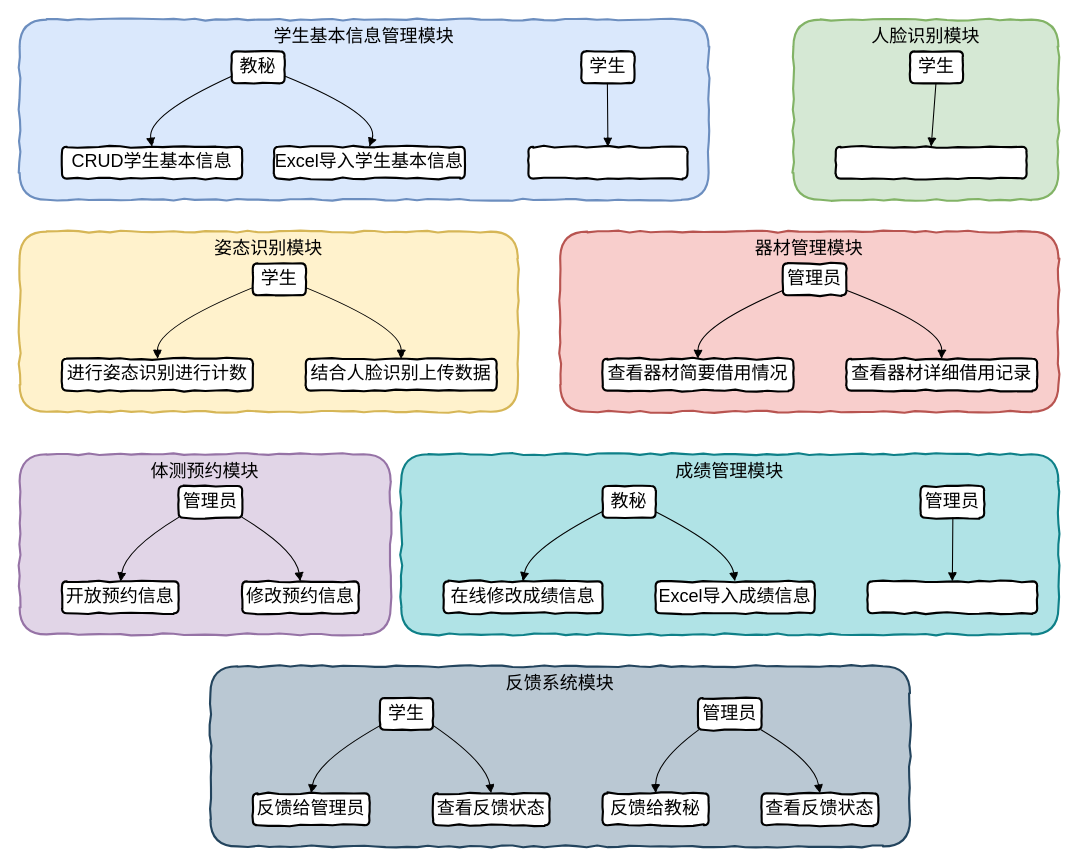
Image size: 1077x865. Some labels were removed from this diagram. The shapes that lost their labels are listed below. From the top down, each one's centre as x and y in pixels, then its label:
point 607,162: 修改个人基本信息
point 930,162: 进行人脸识别核实校验
point 952,597: 可视化查看成绩情况
